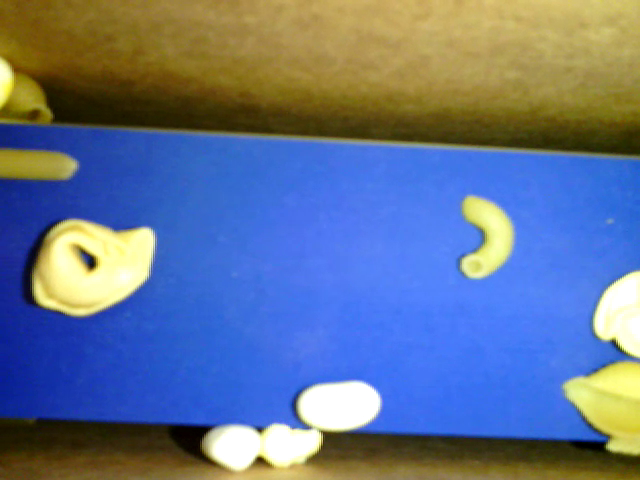elbow: (458, 197, 513, 279)
penne: (1, 146, 77, 180)
shell: (564, 359, 639, 453), (1, 74, 55, 129)
tortellini: (30, 218, 154, 317), (593, 268, 639, 360)
